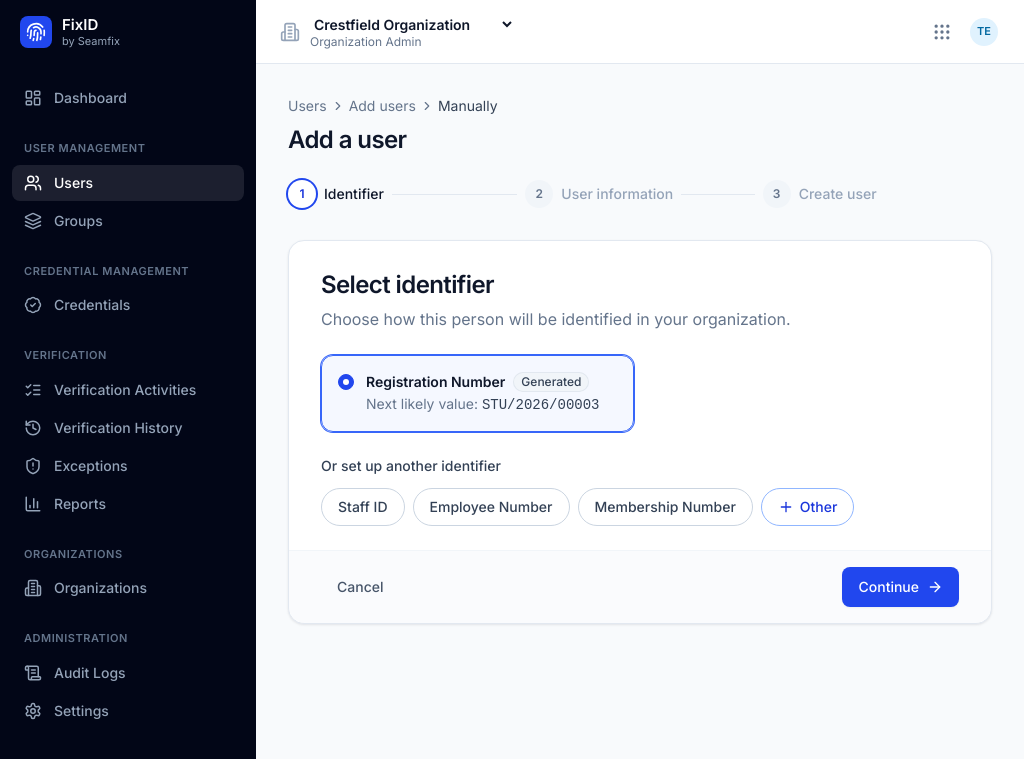
Test: Issue #001: user created modal › asks about issuing a credential, with Issue Credential and Not now
Click the radio button labelled "Registration Number".
click(478, 394)  # box [321,355,634,432]
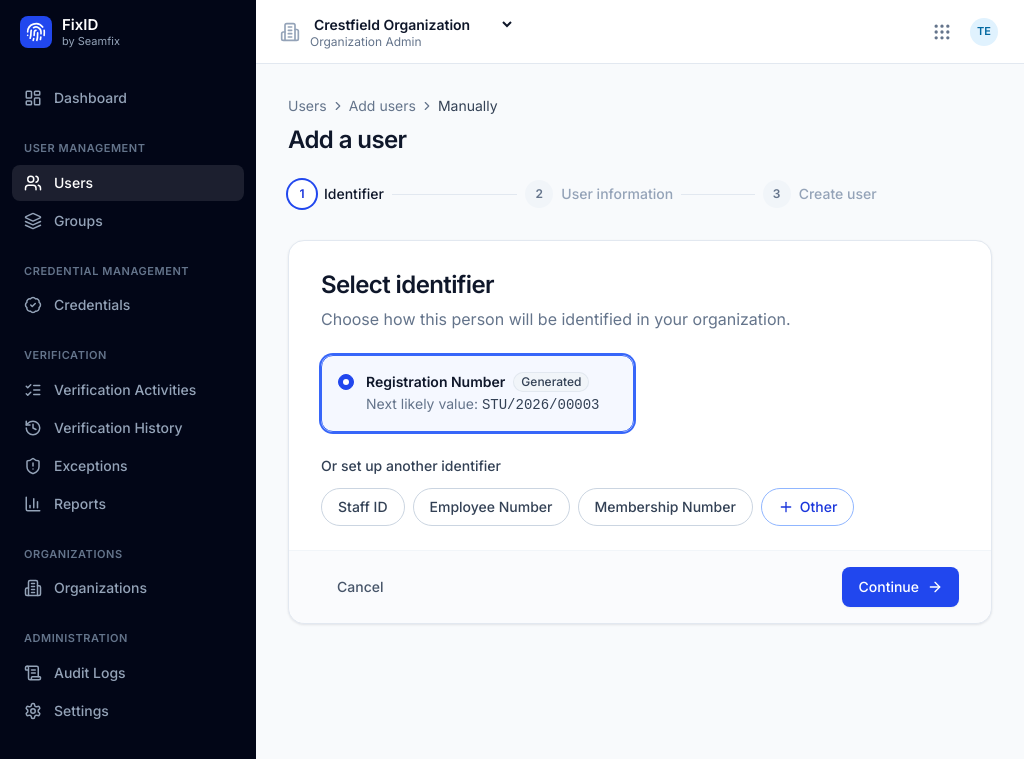
Click the button "Continue".
click(901, 587)  # box [842,567,959,607]
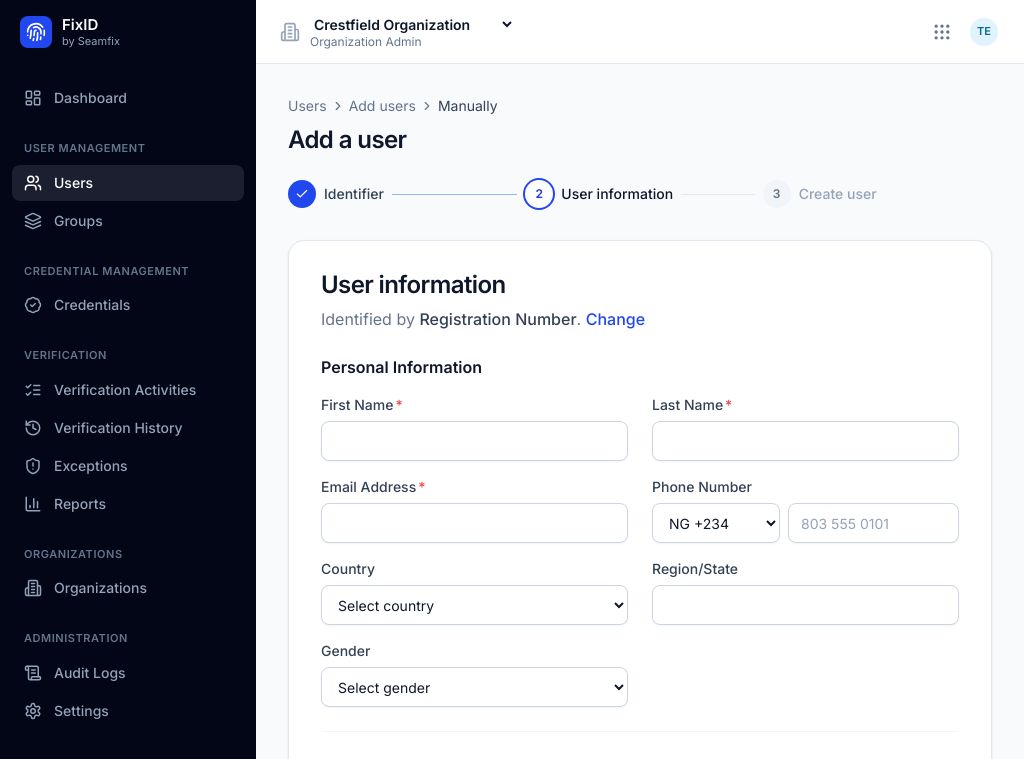
Type "Chika" into the field labelled "First Name*".
click(474, 441); type("Chika")  # box [321,421,628,461]
Type "Obi" into the field labelled "Last Name*".
click(806, 441); type("Obi")  # box [652,421,959,461]
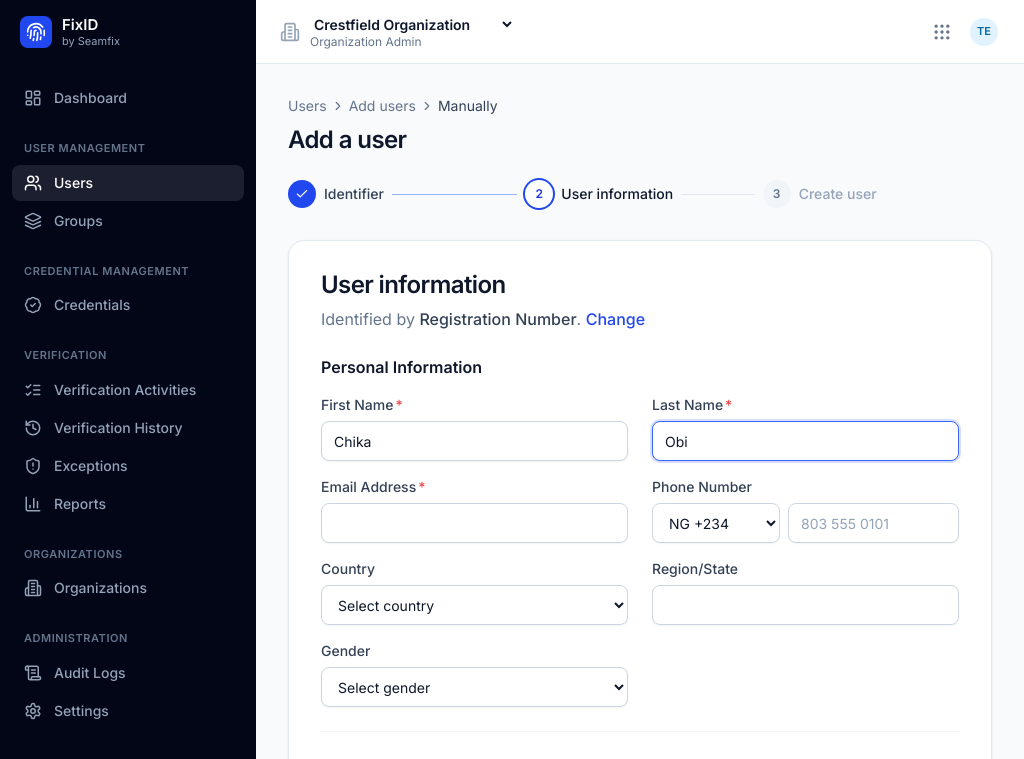
Type "chika@crestfield.example" into the field labelled "Email Address*".
click(474, 523); type("chika@crestfield.example")  # box [321,503,628,543]
(page scrolled)
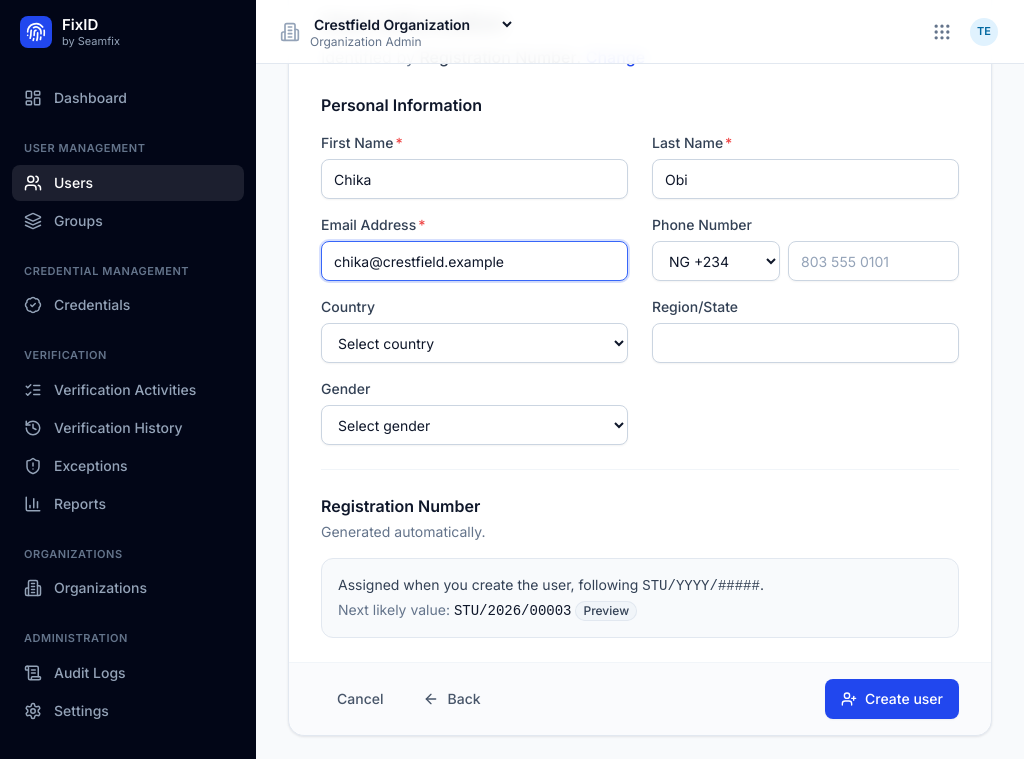
Click the button "Create user".
click(892, 699)  # box [825,679,959,719]
(page scrolled)
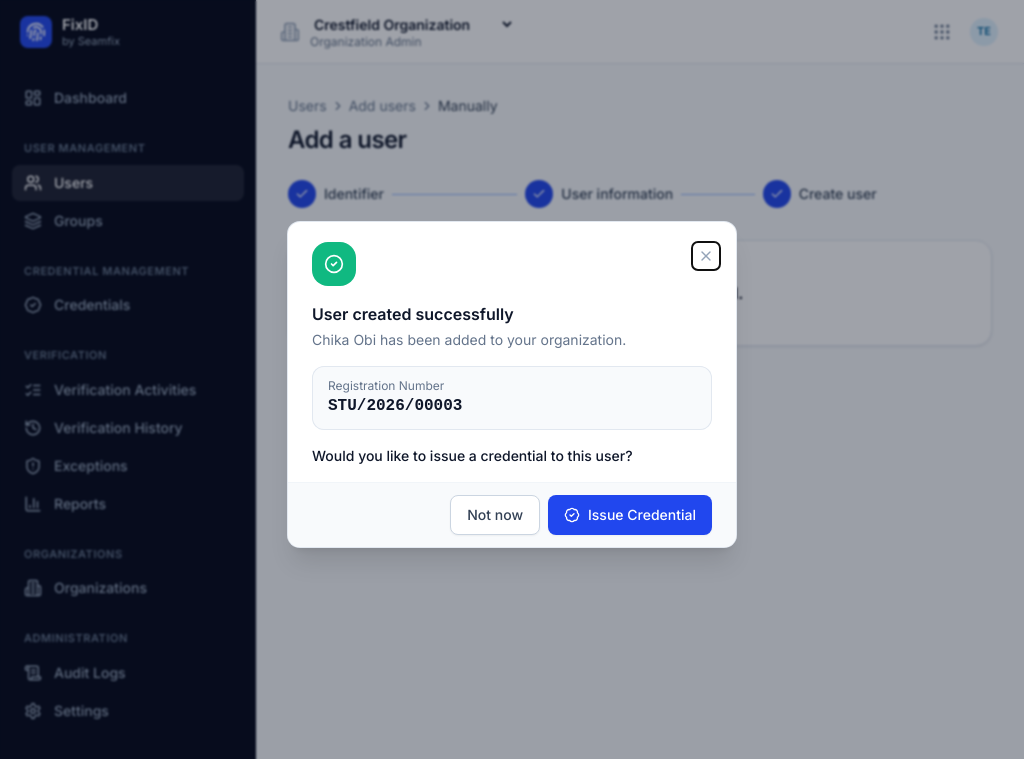
Now the dialog "User created successfully" shows "Chika Obi has been added to your organization.", box [312,330,626,348]
Now the dialog "User created successfully" shows "Would you like to issue a credential to this user?", box [312,446,633,464]
Now the button "Not now" is shown, box [450,494,540,534]
Click the button "Issue Credential".
click(630, 514)  # box [548,494,712,534]
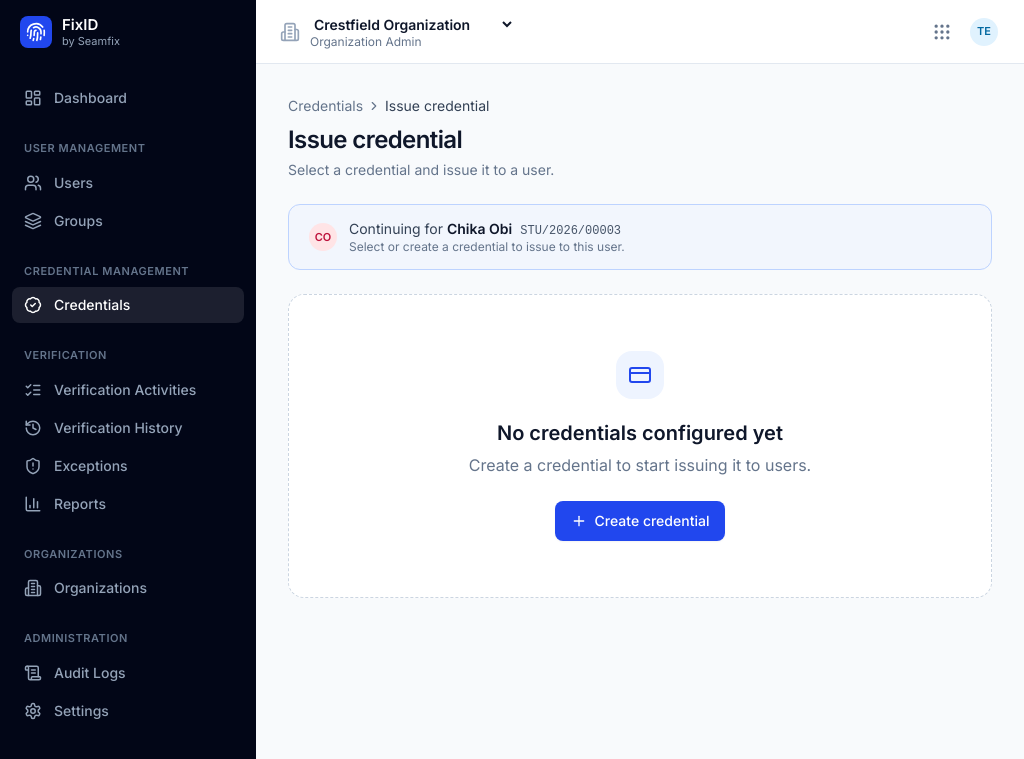
Now the heading "Issue credential" is shown, box [288,125,462,154]
Now the element named "Recipient" shows "Continuing for Chika Obi", box [288,204,992,270]
